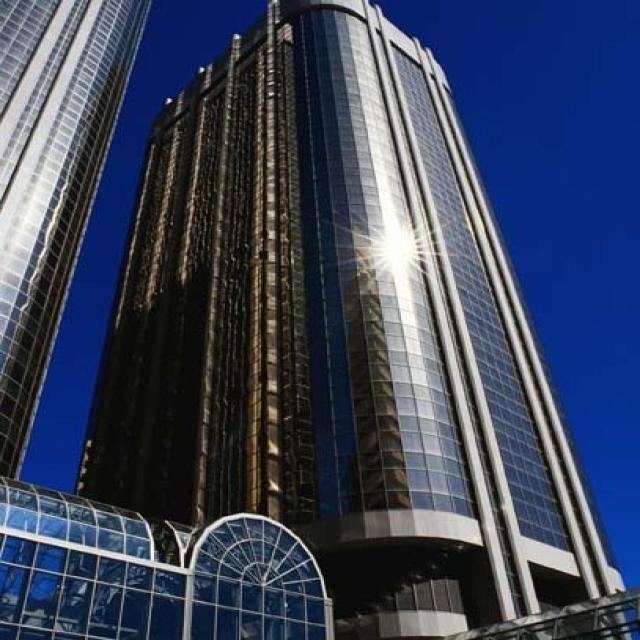building: (78, 0, 638, 640), (0, 0, 157, 485)
